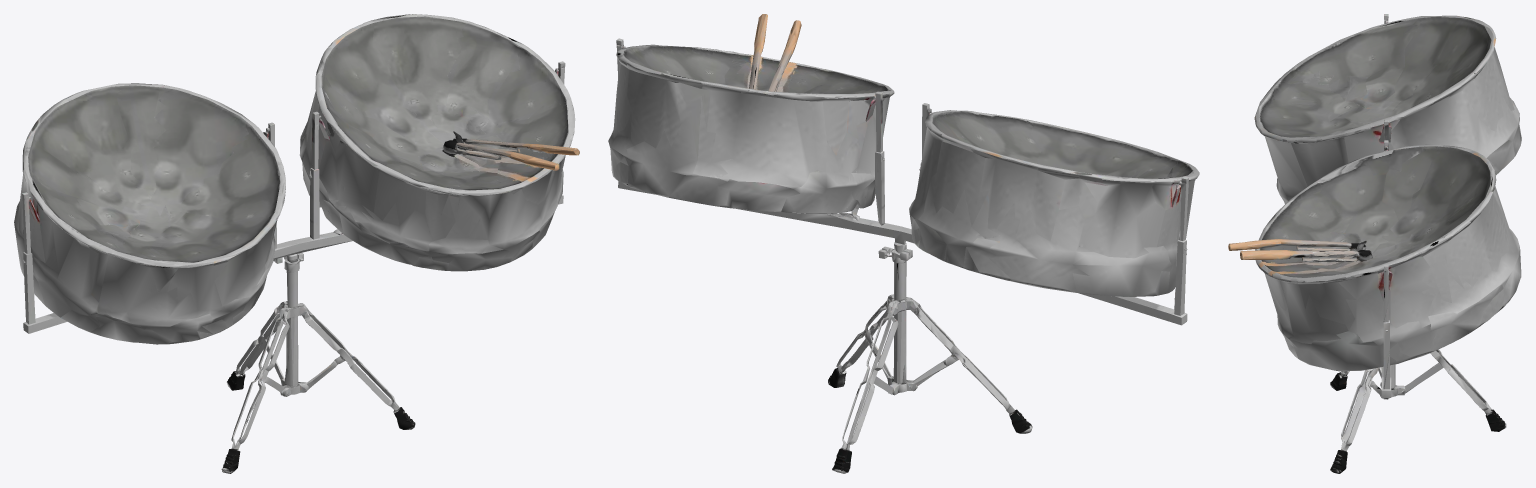
Rendered from double_seconds-optimized.glb.
3 views of the same model, side by side, from view 1: azimuth 30°, elevation 25°; view 2: azimuth 150°, elevation 25°; view 3: azimuth 270°, elevation 25° (orthographic). The views are drawn at different scales.
Visible parts, largest first — view 1: output_unwrapped; view 2: output_unwrapped; view 3: output_unwrapped.
Boxes of the visible parts, left/top/right/bottom form: output_unwrapped: left=14, top=14, right=579, bottom=473; output_unwrapped: left=608, top=14, right=1199, bottom=473; output_unwrapped: left=1228, top=14, right=1521, bottom=473.
Size of the model in its own units: 1.9 by 1.13 by 0.9332.
Materials: 1 (1 with a texture image).
